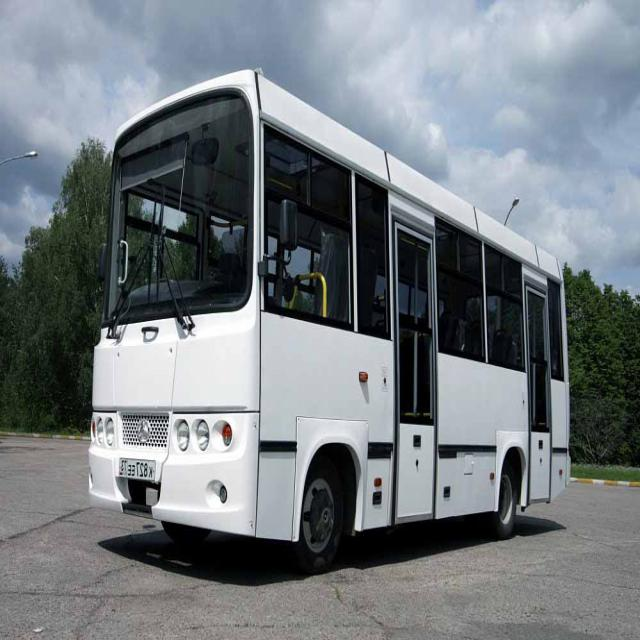bus: (88, 60, 570, 571)
